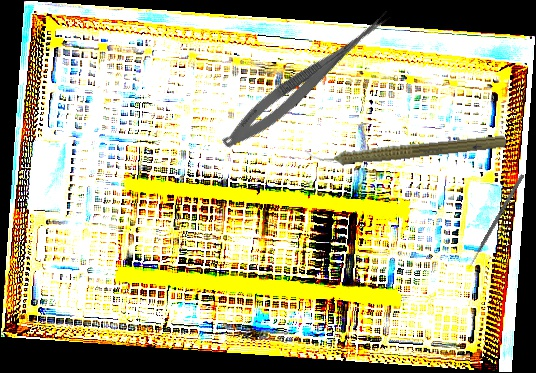Handpiece: (303, 127, 507, 172)
Micro Scissor: (216, 0, 397, 158)
Pusher: (466, 173, 525, 271)
